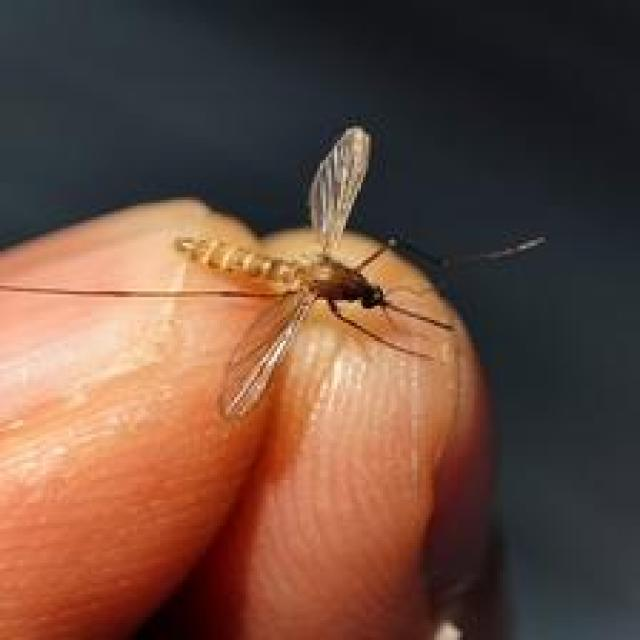Culex: (0, 123, 546, 423)
